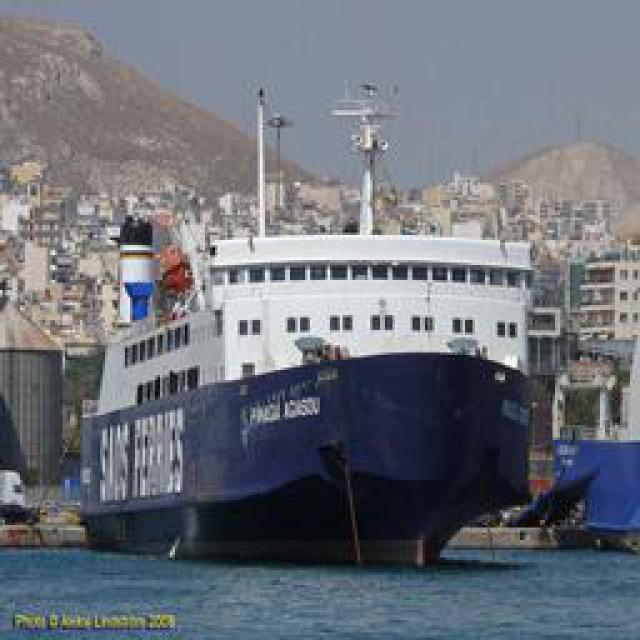Ship: (70, 336, 553, 564)
